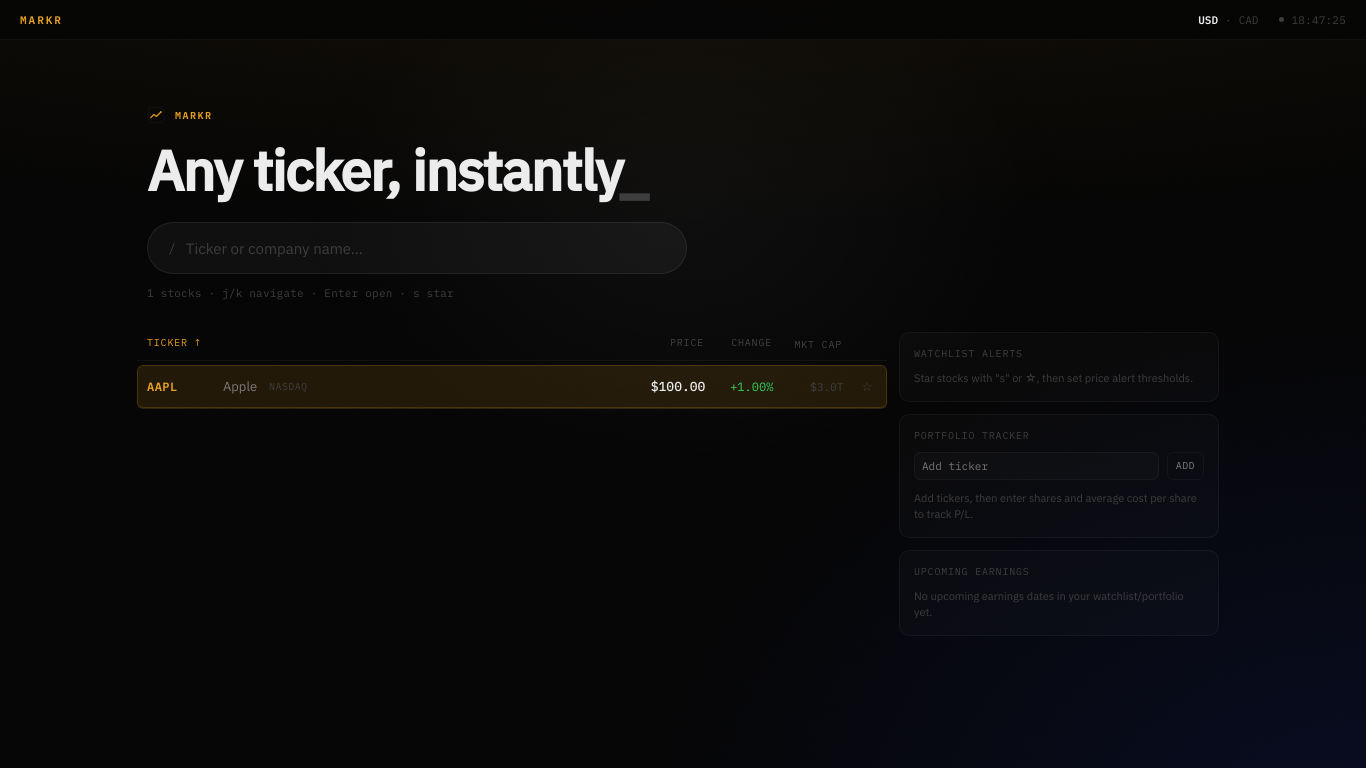
every section can fail independently
Click the text "AAPL".
click(162, 387)  # box 147,380 -> 178,394
(page scrolled)
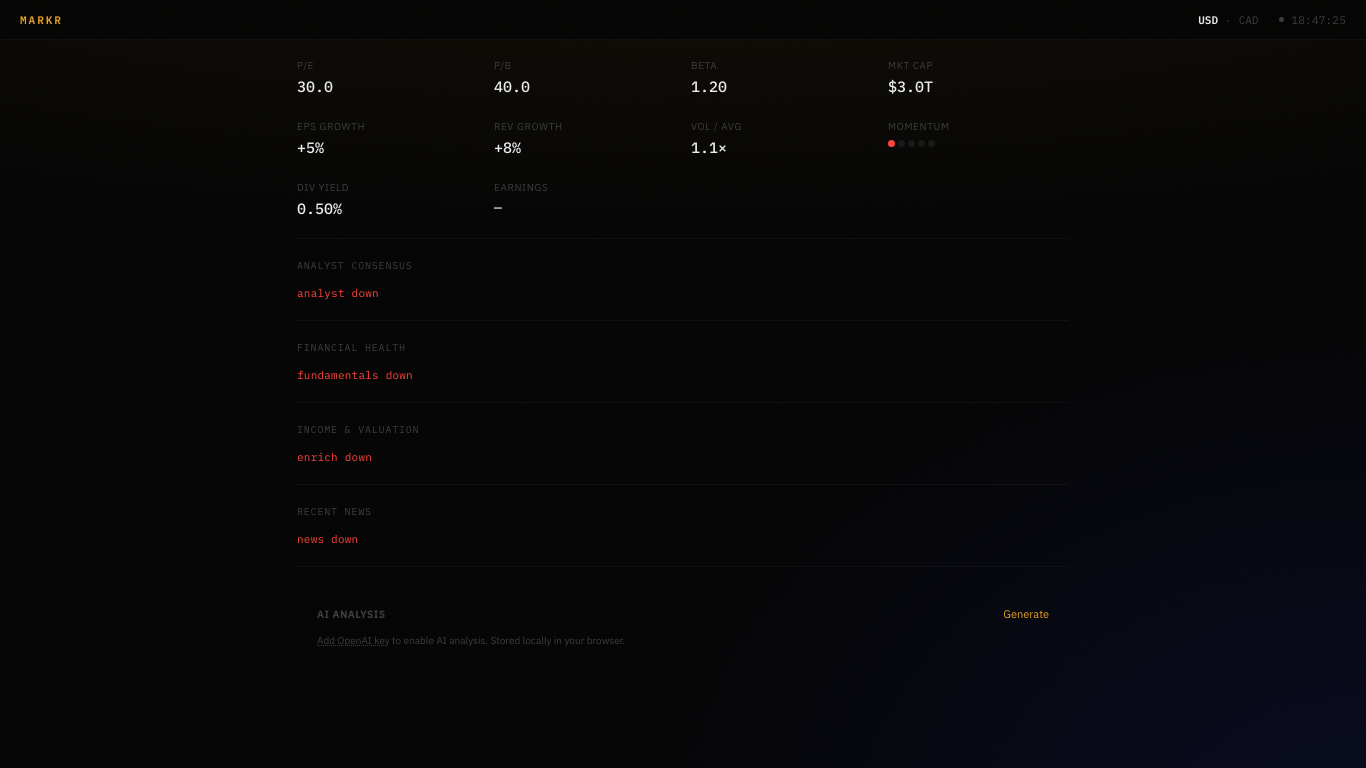
Expected: the text "analyst down" is shown, 297,286 -> 379,300
Expected: the text "fundamentals down" is shown, 297,368 -> 413,382
Expected: the text "news down" is shown, 297,532 -> 358,546
